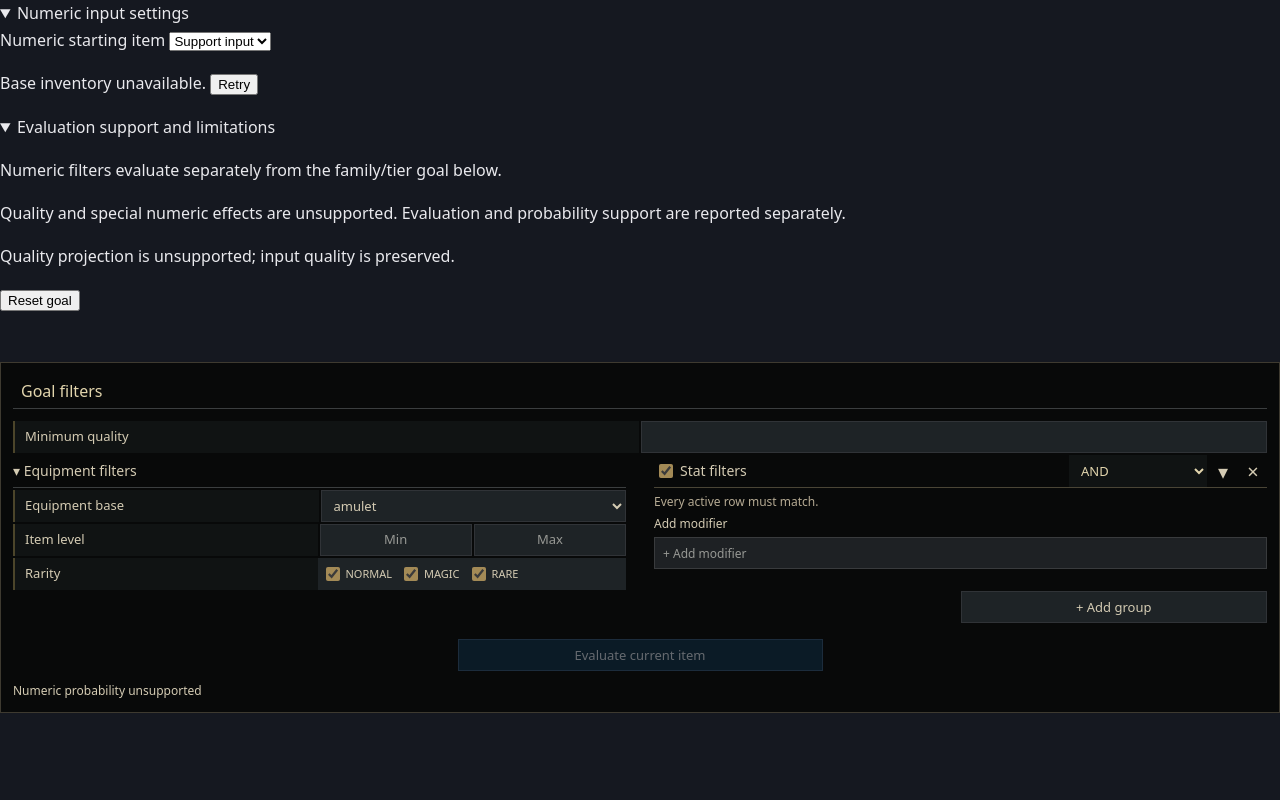
production goal connection › shows unsupported numeric probability and removes stale results on unfinished editing
Focus the dropdown named "Search stats" at (960, 554), box [654,538,1267,570]
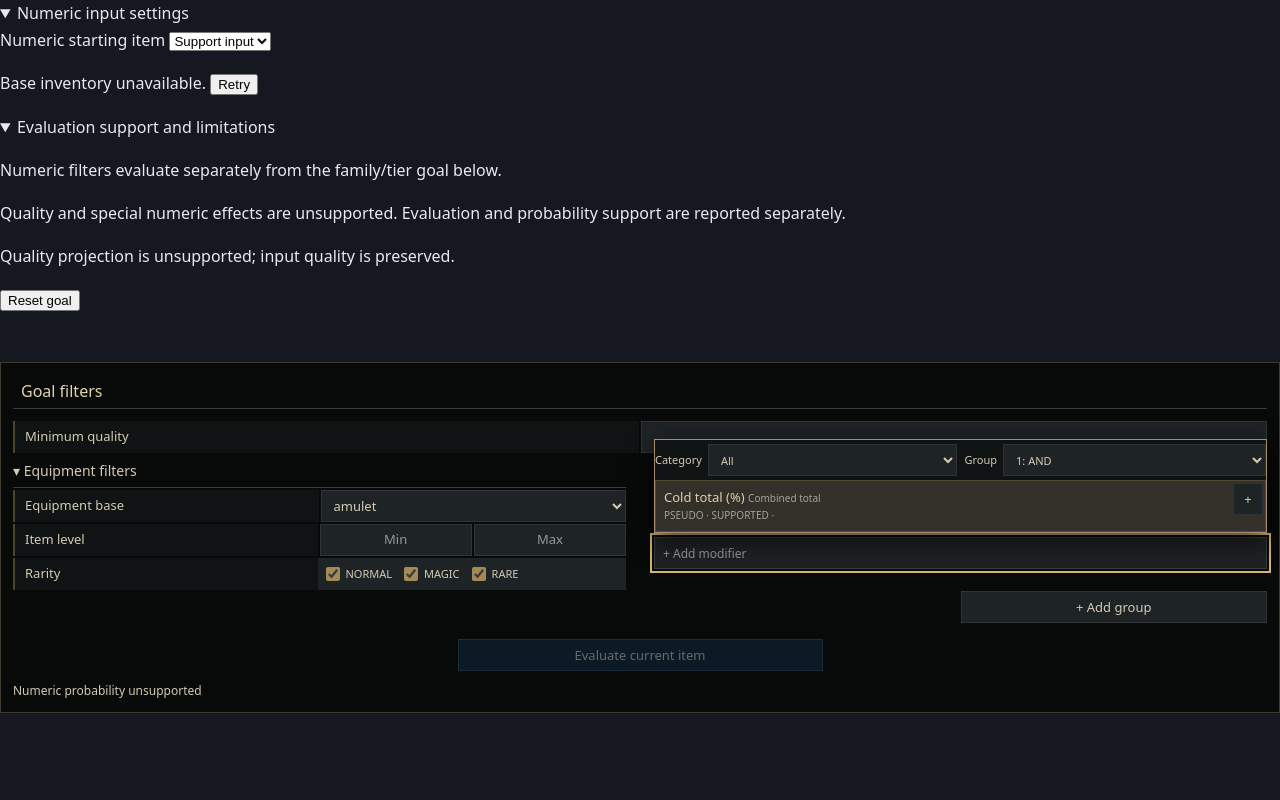
Click the button named "Add Cold total" at (1248, 499), box [1233,483,1263,515]
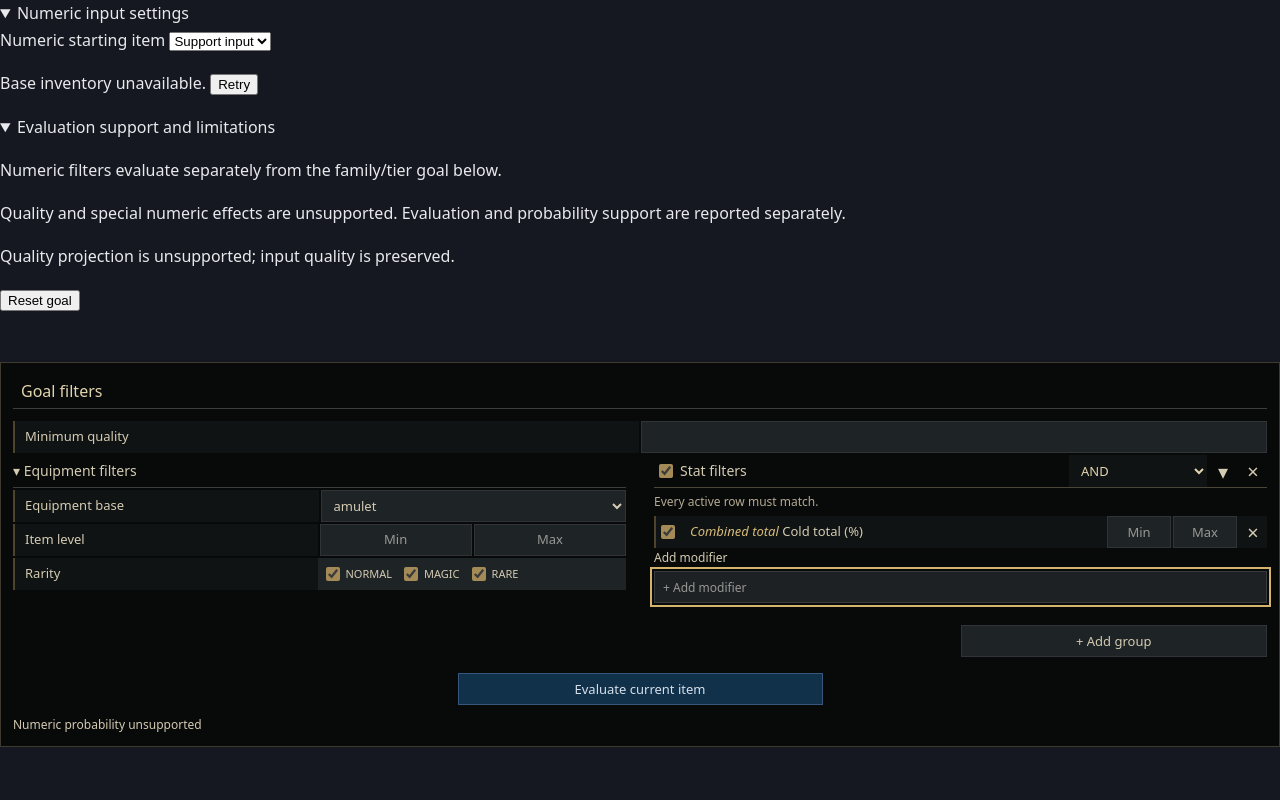
Now the button "Evaluate current item" is enabled
Click the button "Evaluate current item" at (640, 690), box [458,674,822,706]
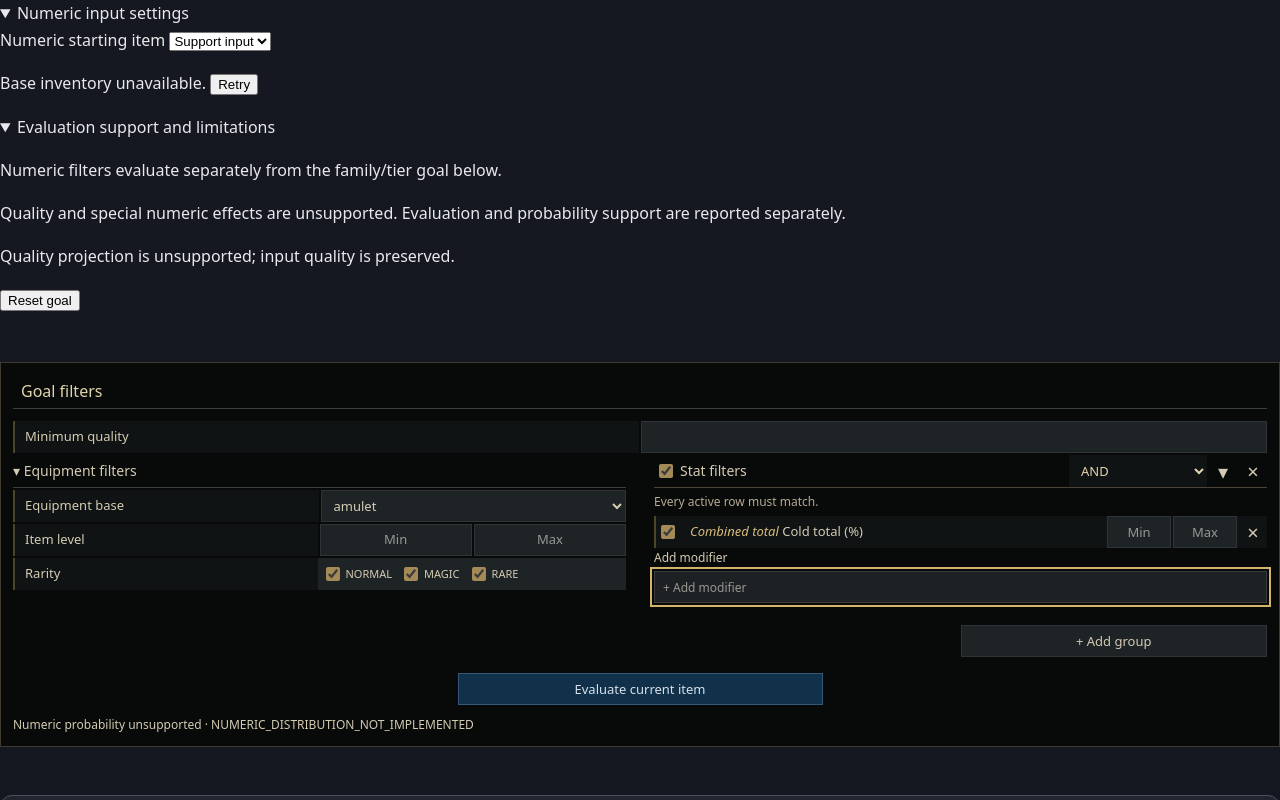
Type "-" into the field labelled "Min" in the row of "Cold total" at (1139, 532), box [1107,516,1171,548]
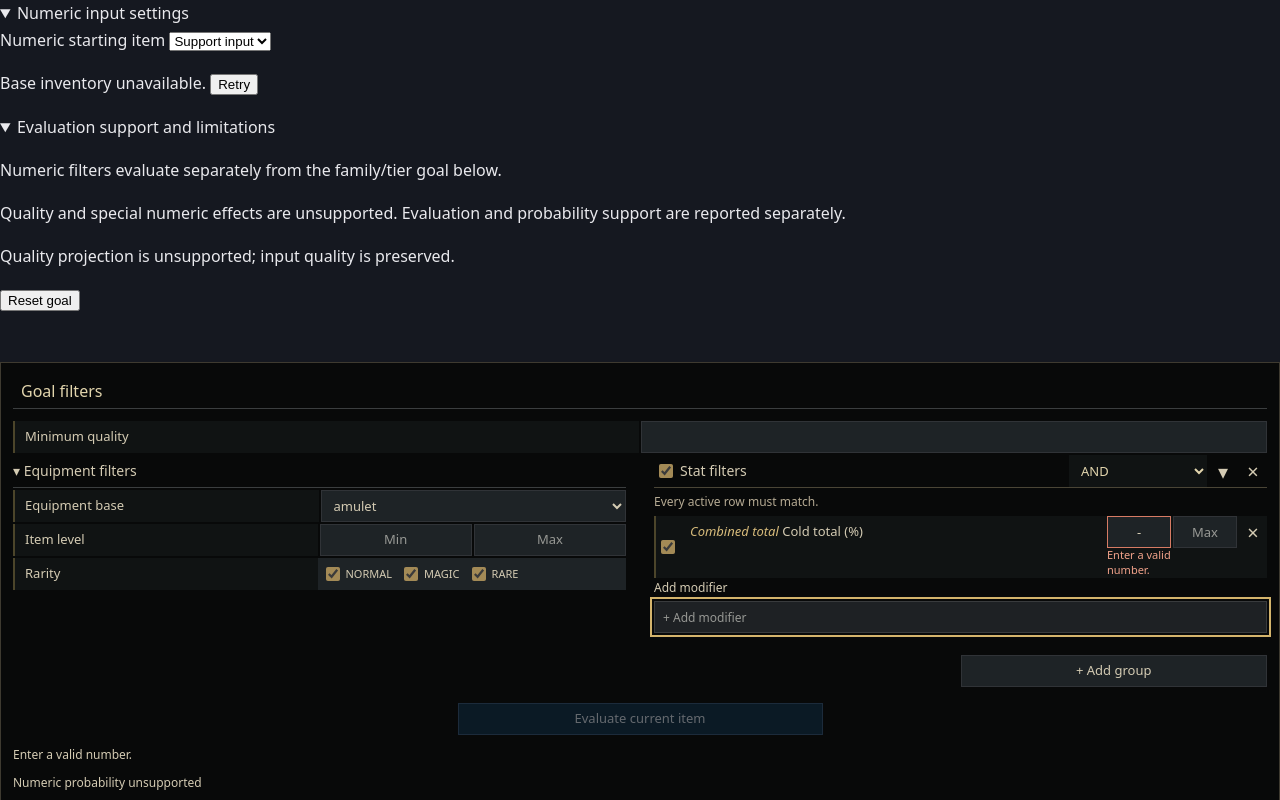
Now the button "Evaluate current item" is disabled, box [458,703,822,735]
